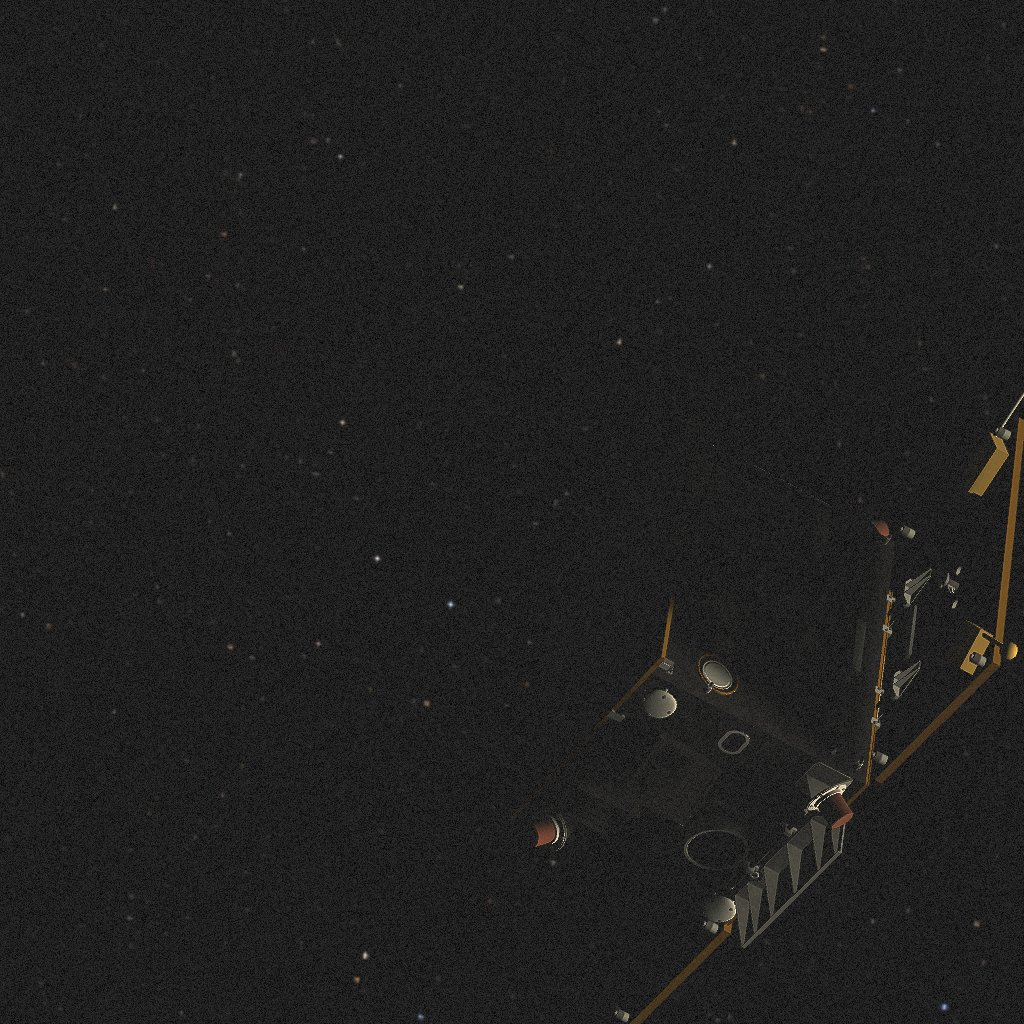proba_2: (509, 389, 1024, 1024)
